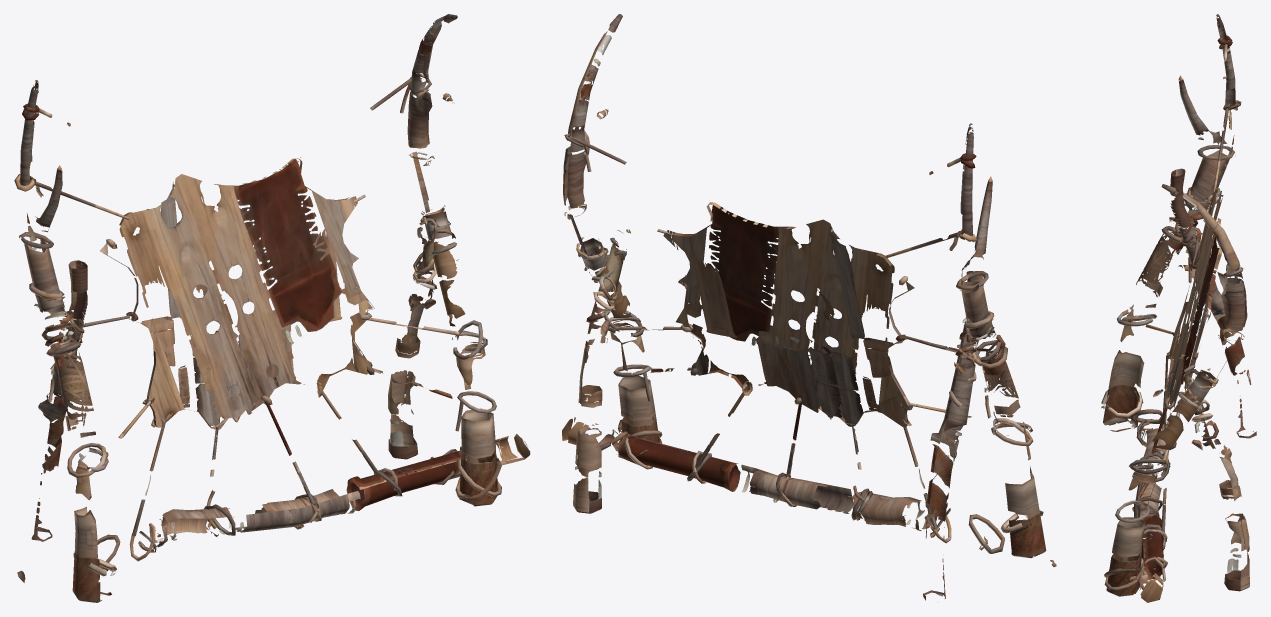
3 renders of one model, left to right at view 1: azimuth 30°, elevation 25°; view 2: azimuth 150°, elevation 25°; view 3: azimuth 270°, elevation 25°, orthographic. The views are drawn at different scales.
Visible parts, largest first — view 1: SM_Tanners_Kit_01_LOD0; view 2: SM_Tanners_Kit_01_LOD0; view 3: SM_Tanners_Kit_01_LOD0.
Part boxes in pixels (x1,y1,x2,y2): SM_Tanners_Kit_01_LOD0: (14, 14, 530, 602); SM_Tanners_Kit_01_LOD0: (562, 14, 1056, 600); SM_Tanners_Kit_01_LOD0: (1101, 14, 1256, 602).
Bounding box in the file's own units: 1.75 × 1.57 × 0.5455.
